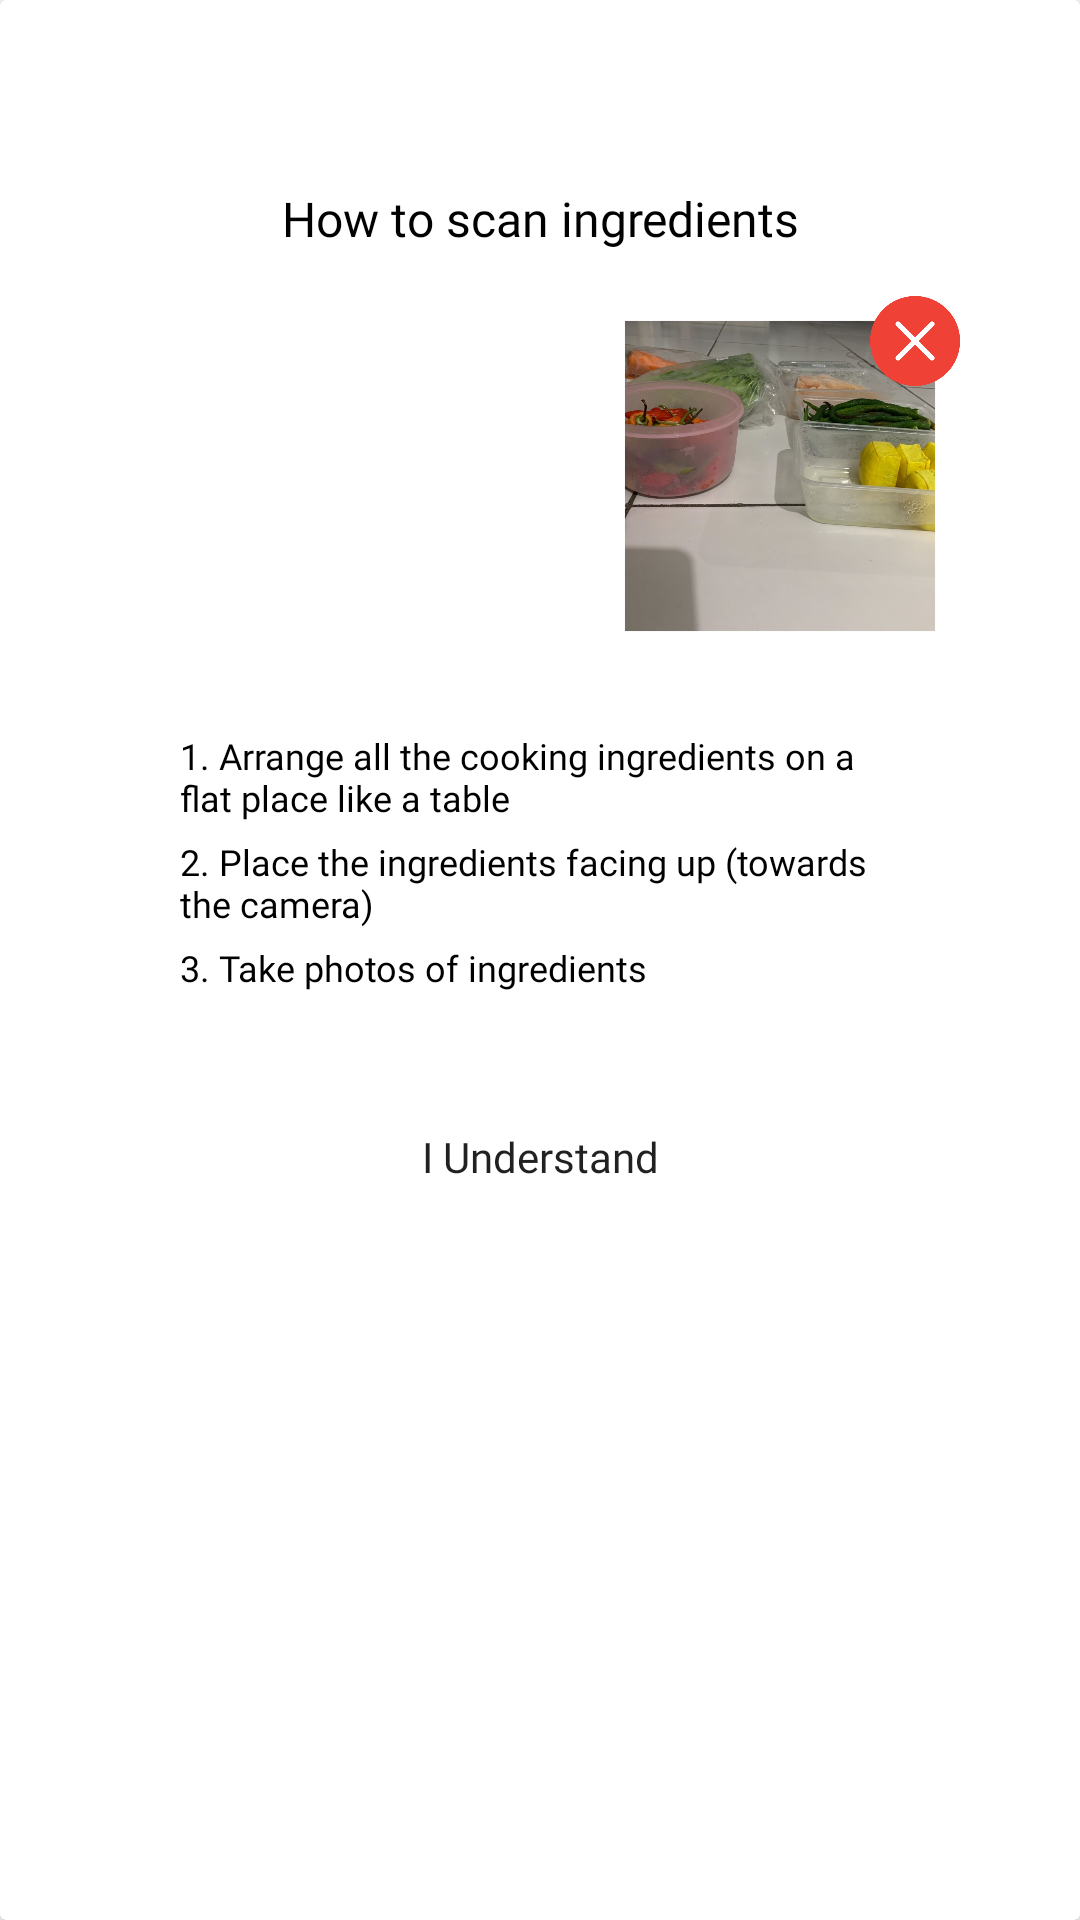

Where icons sit on this 1080px×1920px app screen, as (x1, y1, x2, y2):
incorrect image: (625, 296, 960, 631)
